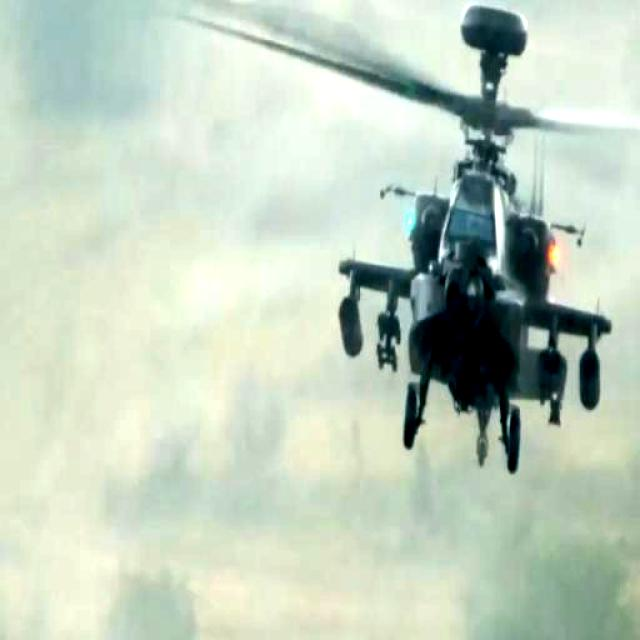drone: (184, 0, 640, 490)
